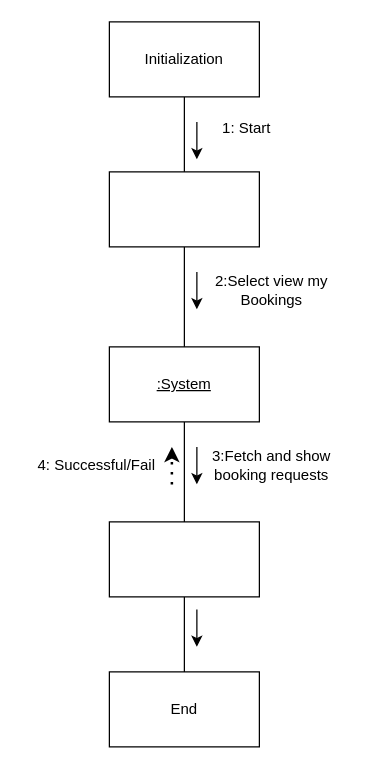
The diagram is 368 pixels wide and 769 high, and some of its shapes have lost their labels. The centre of each missing label's shape, as x and y in pixels:
":DB" goes at (183,559).
":Faculty" goes at (183,209).
